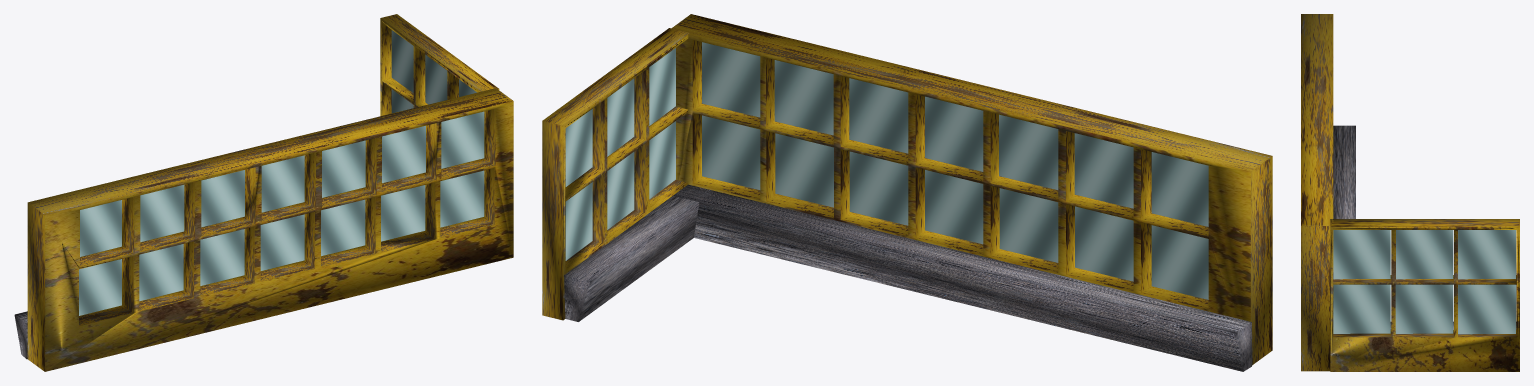
Rendered from ventanillas.obj.
3 renders of one model, left to right at view 1: azimuth 30°, elevation 25°; view 2: azimuth 150°, elevation 25°; view 3: azimuth 270°, elevation 25°, orthographic. The views are drawn at different scales.
Visible parts, largest first — view 1: Box014, Box013, Plane036, Plane039, Plane044, Plane040, Plane041, Plane042, Plane043, Plane035, Plane033, Plane032 (+7 smaller); view 2: Box014, Box008, Box013, Box009, Plane033, Plane035, Plane036, Plane032, Plane040, Plane031, Plane034, Plane042 (+12 smaller); view 3: Box013, Box014, Plane029, Plane028, Plane030, Plane025, Plane026, Plane027, Box008.
Boxes of the visible parts, x1,y1,x2,y2 form: Box014: (27,88,513,371); Box013: (380,14,499,116); Plane036: (140,185,184,242); Plane039: (139,244,183,301); Plane044: (440,170,484,227); Plane040: (200,229,244,285); Plane041: (260,214,304,270); Plane042: (321,199,365,256); Plane043: (381,185,425,241); Plane035: (201,170,244,227); Plane033: (322,140,365,197); Plane032: (382,126,425,183); Box014: (671,14,1272,365); Box008: (673,184,1251,371); Box013: (542,28,689,320); Box009: (564,185,713,321); Plane033: (849,78,908,153); Plane035: (999,114,1058,189); Plane036: (1074,133,1133,208); Plane032: (774,60,833,135); Plane040: (999,188,1058,262); Plane031: (702,42,760,117); Plane034: (925,96,983,171); Plane042: (849,151,908,225); Box013: (1330,219,1519,371); Box014: (1301,14,1333,371); Plane029: (1395,284,1453,333); Plane028: (1458,284,1515,334); Plane030: (1333,284,1390,333); Plane025: (1458,230,1515,279); Plane026: (1396,230,1453,279); Plane027: (1333,230,1390,279); Box008: (1333,125,1355,218).
Size of the model in its own units: 346 by 110 by 150.
Materials: 3 (3 with a texture image).
